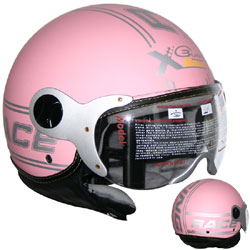helmet: (13, 7, 217, 176), (175, 182, 249, 236)
